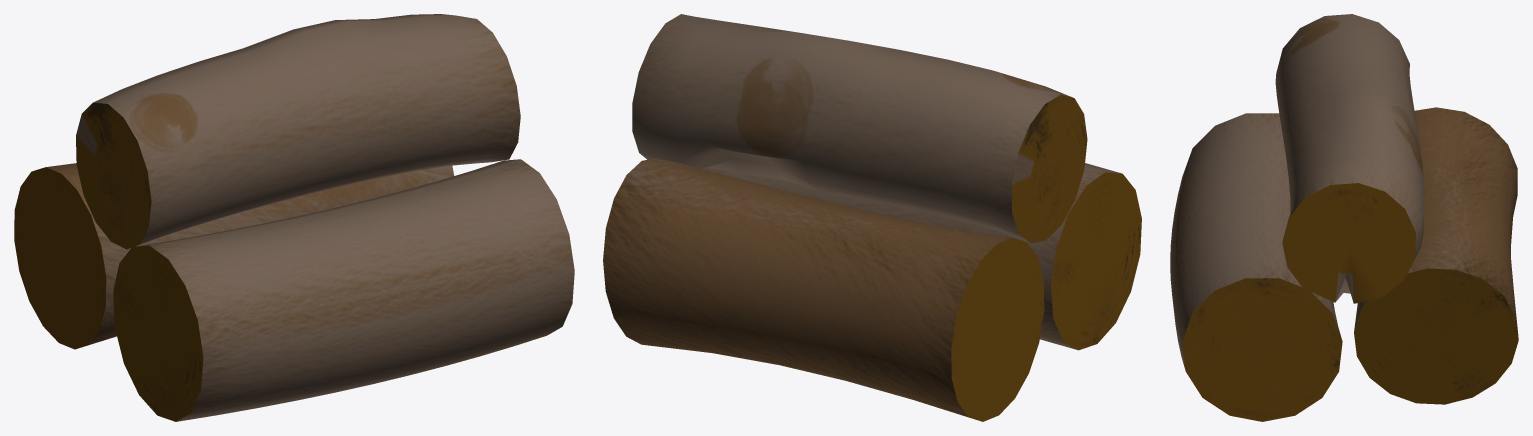
3 renders of one model, left to right at view 1: azimuth 30°, elevation 25°; view 2: azimuth 150°, elevation 25°; view 3: azimuth 270°, elevation 25°, orthographic. The views are drawn at different scales.
Visible parts, largest first — view 1: Cylinder001, Cylinder002, Cylinder003; view 2: Cylinder003, Cylinder002, Cylinder001; view 3: Cylinder001, Cylinder002, Cylinder003.
Boxes of the visible parts, x1=… form: Cylinder001: x1=113, y1=159, x2=574, y2=421; Cylinder002: x1=76, y1=14, x2=520, y2=249; Cylinder003: x1=14, y1=163, x2=454, y2=349; Cylinder003: x1=603, y1=158, x2=1044, y2=421; Cylinder002: x1=632, y1=14, x2=1087, y2=243; Cylinder001: x1=702, y1=163, x2=1141, y2=350; Cylinder001: x1=1170, y1=113, x2=1342, y2=421; Cylinder002: x1=1275, y1=14, x2=1424, y2=303; Cylinder003: x1=1354, y1=107, x2=1518, y2=404.
Size of the model in its own units: 1293 by 979 by 1170.
1 material, 1 textured.
